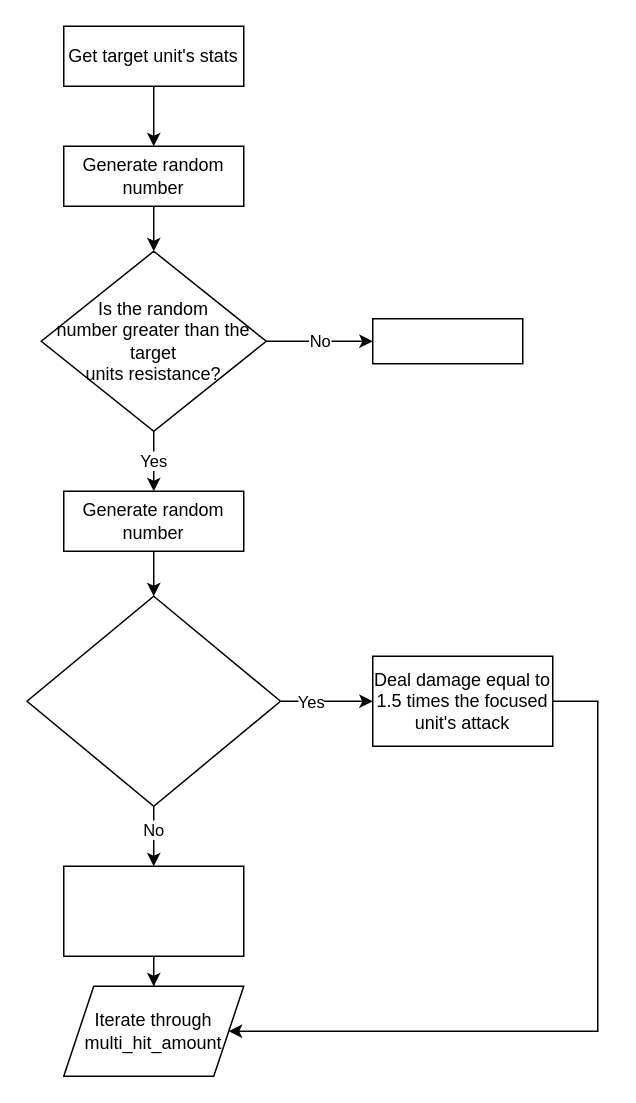
The diagram is 636 pixels wide and 1103 high, and some of its shapes have lost their labels. Here are the shapes that lost their labels. From the top down, the centre of each, then its label:
pixel 447 340: Deal no Damage
pixel 153 700: Is the random number lower than that of the focused unit's critical hit chance?
pixel 153 910: Deal damage equal to the focused unit's attack
